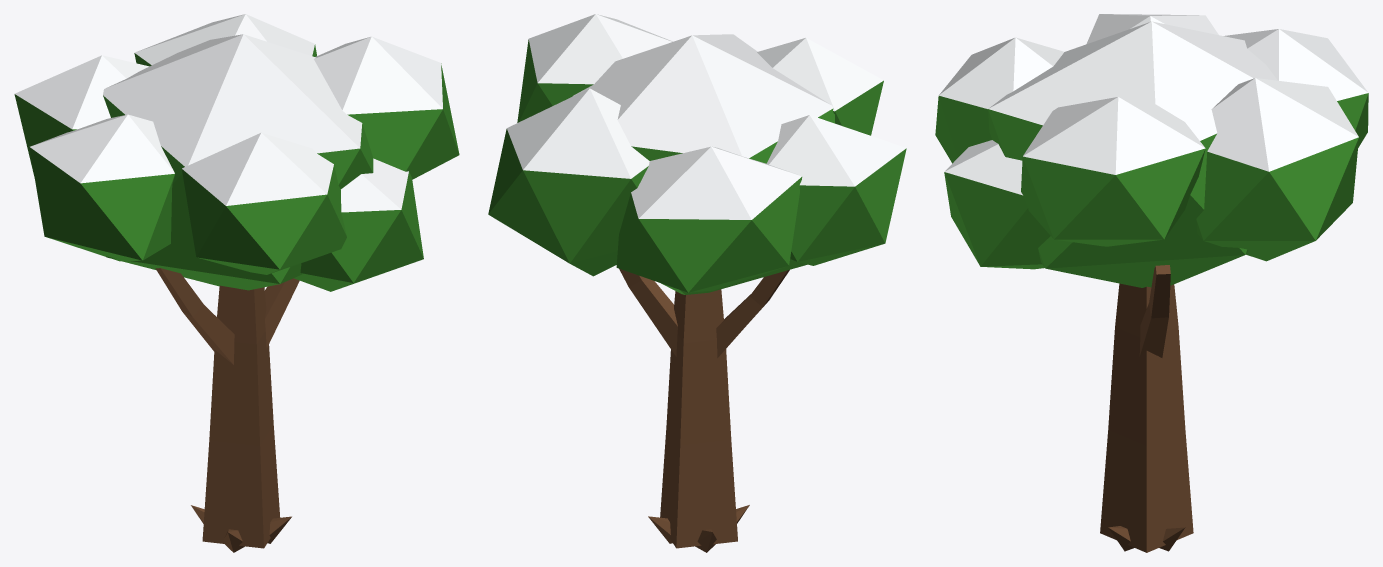
Rendered from WinterTree.fbx.
3 renders of one model, left to right at view 1: azimuth 30°, elevation 25°; view 2: azimuth 150°, elevation 25°; view 3: azimuth 270°, elevation 25°, orthographic. The views are drawn at different scales.
Parts seen in each view (by area): view 1: WinterTree; view 2: WinterTree; view 3: WinterTree.
Boxes of the visible parts, x1,y1,x2,y2 form: WinterTree: (14, 14, 459, 552); WinterTree: (488, 14, 906, 552); WinterTree: (935, 14, 1368, 552).
Size of the model in its own units: 11.08 by 14.19 by 10.65.
1 material, 1 textured.
